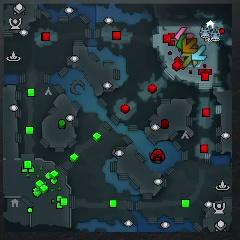x1: (175, 28, 195, 41)
x2: (181, 52, 198, 68)
x3: (192, 45, 208, 60)
x4: (176, 33, 188, 51)
x5: (182, 38, 198, 53)
